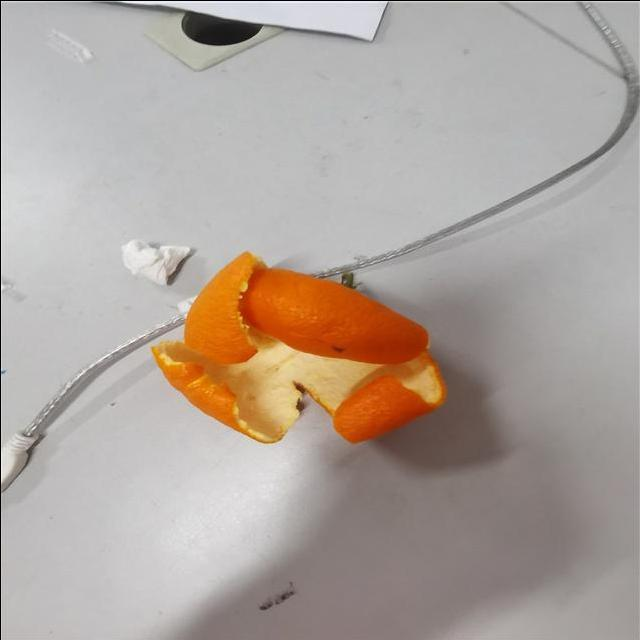orange peel: (146, 248, 446, 448)
